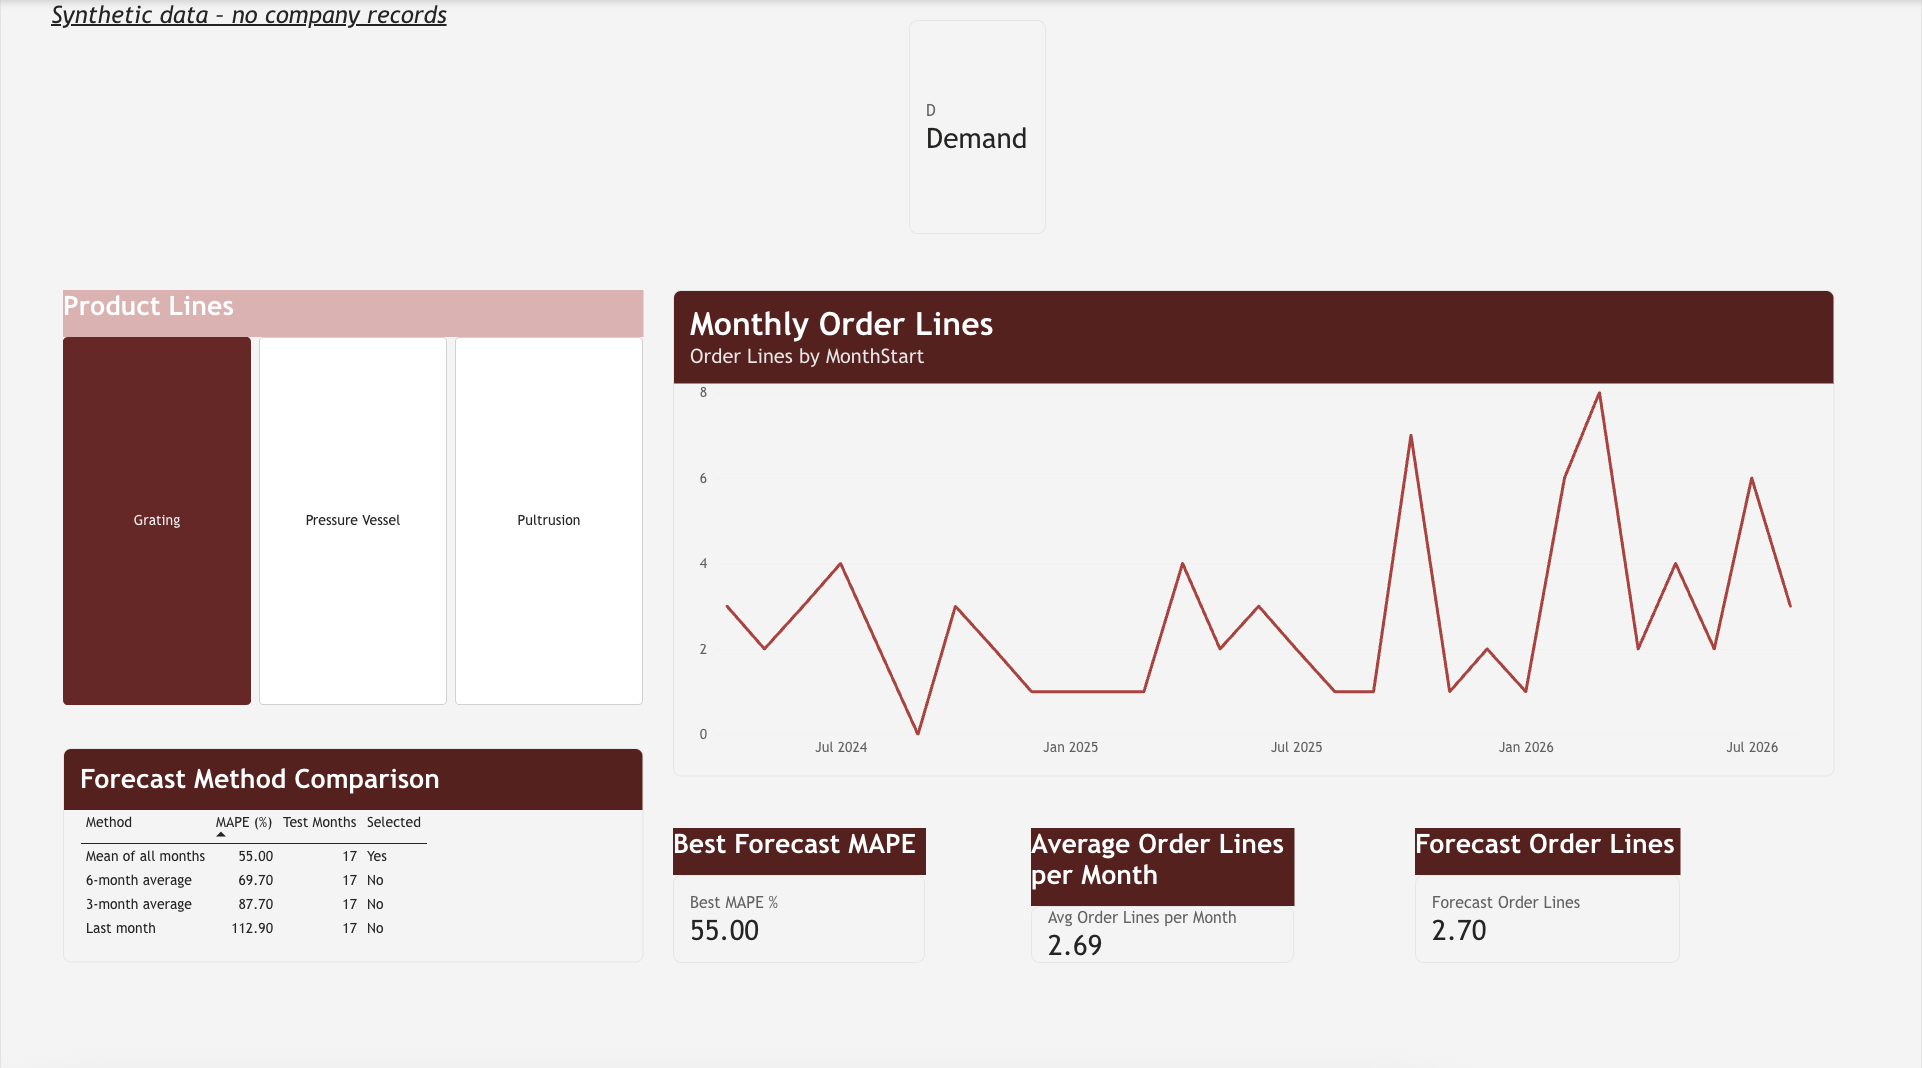

The dashboard page shown, as its layout file describes it:
{"tool":"powerbi","page":{"name":"Demand","canvas":[1920,1080],"ordinal":0},"visuals":[{"type":"textbox","box":[9.7,0,812.4,36.5],"z":0},{"type":"advancedSlicerVisual","title":"Product Lines","fields":{"Values":["tblProductLines.ProductLine"]},"box":[62.1,289.3,580.7,415.7],"z":1000},{"type":"lineChart","title":"Monthly Order Lines","fields":{"Category":["tblCalendar.MonthStart"],"Y":["tblMonthlyOrderLines.Order Lines"]},"box":[672.9,289.3,1161.4,486.4],"z":2000},{"type":"cardVisual","title":"Forecast Order Lines","fields":{"Data":["tblCapacity.Forecast Order Lines"]},"box":[1414.3,827.1,265.7,135],"z":3000},{"type":"cardVisual","title":"Average Order Lines per Month","fields":{"Data":["tblMonthlyOrderLines.Avg Order Lines per Month"]},"box":[1030.7,827.1,263.6,135],"z":4000},{"type":"cardVisual","title":"Best Forecast MAPE","fields":{"Data":["tblForecastBacktest.Best MAPE %"]},"box":[672.9,827.1,252.9,135],"z":5000},{"type":"tableEx","title":"Forecast Method Comparison","fields":{"Values":["tblForecastBacktest.Method","Sum(tblForecastBacktest.MAPE_pct)","Sum(tblForecastBacktest.MonthsTested)","tblForecastBacktest.Chosen"]},"box":[62.1,747.9,580.7,214.3],"z":6000},{"type":"cardVisual","fields":{"Data":["tblCalendar.D"]},"box":[908.6,19.3,137.1,214.3],"z":7000}]}

Visuals, with their boxes in screenshot pixels (x1, y1, x2, y2), scaled from the page's 1920x1080 canvas onto the 1922x1068 screenshot:
textbox: BBox(10, 0, 823, 36)
"Product Lines" advancedSlicerVisual: BBox(62, 286, 643, 697)
"Monthly Order Lines" lineChart: BBox(674, 286, 1836, 767)
"Forecast Order Lines" cardVisual: BBox(1416, 818, 1682, 951)
"Average Order Lines per Month" cardVisual: BBox(1032, 818, 1296, 951)
"Best Forecast MAPE" cardVisual: BBox(674, 818, 927, 951)
"Forecast Method Comparison" tableEx: BBox(62, 740, 643, 952)
cardVisual - tblCalendar.D: BBox(910, 19, 1047, 231)
